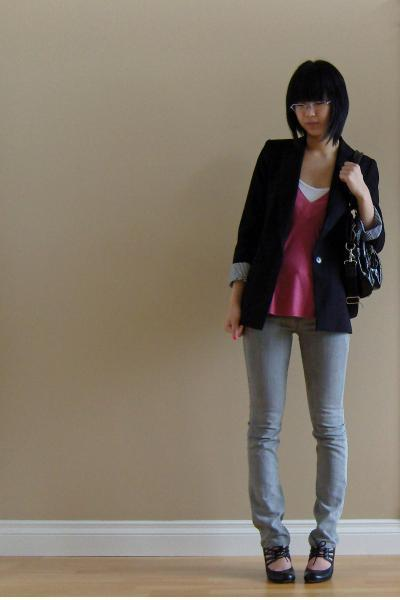bag: (312, 204, 384, 302)
jacket: (228, 136, 378, 335)
pants: (239, 300, 353, 552)
shirt: (268, 179, 327, 315)
shoe: (264, 531, 336, 588)
